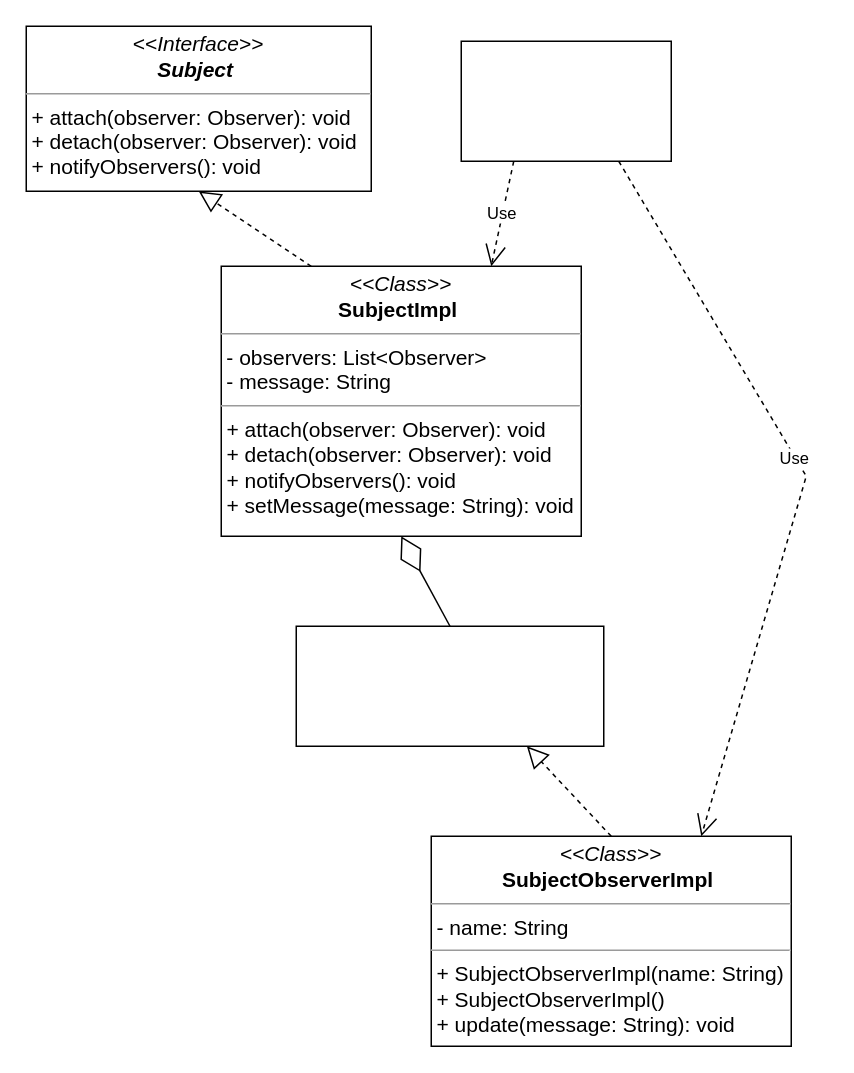
Image size: 854x1073. Some labels were removed from this diagram. The shapes that lost their labels are listed below. From the top down, each one's box as (x1, y1, x2, y2) in pixels, then its label:
(460, 40, 671, 161): <<Class>> Main + main(String[]): void
(295, 625, 604, 746): <<Class>> Observer + update(message: String): void
